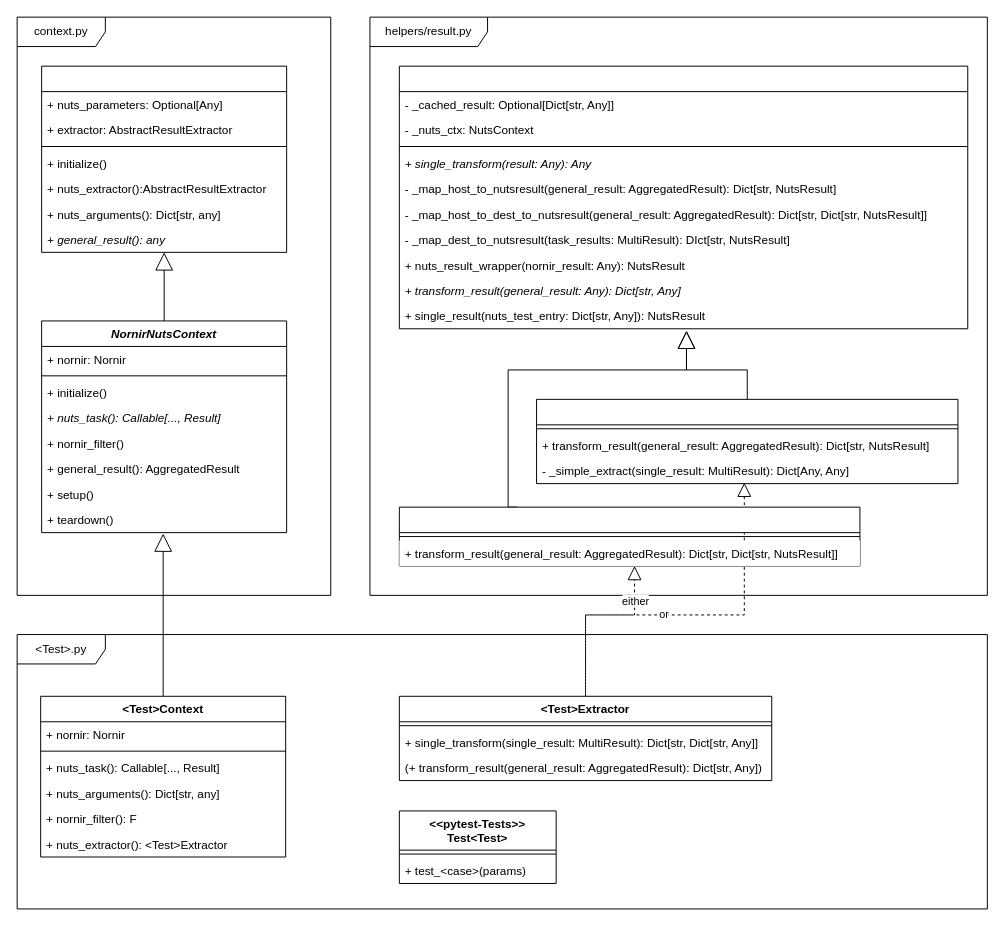
Image size: 1005x926. Some labels were removed from this diagram. The shapes that lost their labels are listed below. From the top down, each one's box as (x1, y1, x2, y2) in pixels, then its label:
(41, 65, 287, 252): NutsContext
(398, 65, 968, 329): AbstractResultExtractor
(536, 398, 958, 484): AbstractHostResultExtractor
(398, 506, 860, 566): AbstractHostDestResultExtractor
